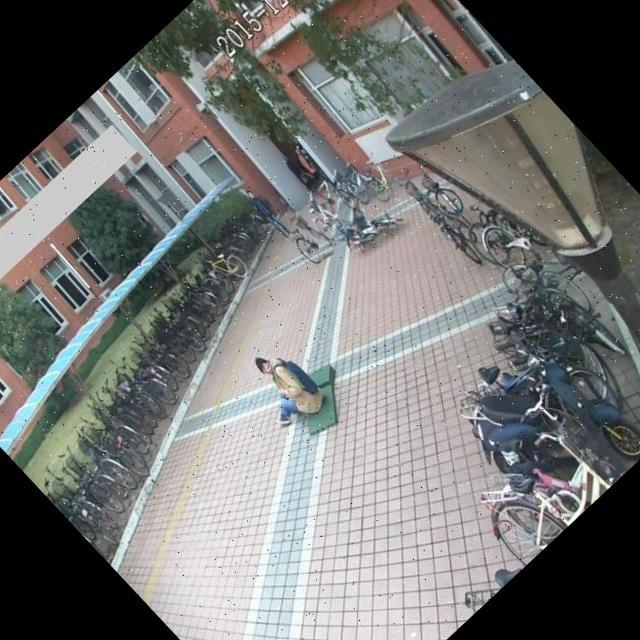person: (231, 334, 334, 439), (236, 180, 298, 246)
